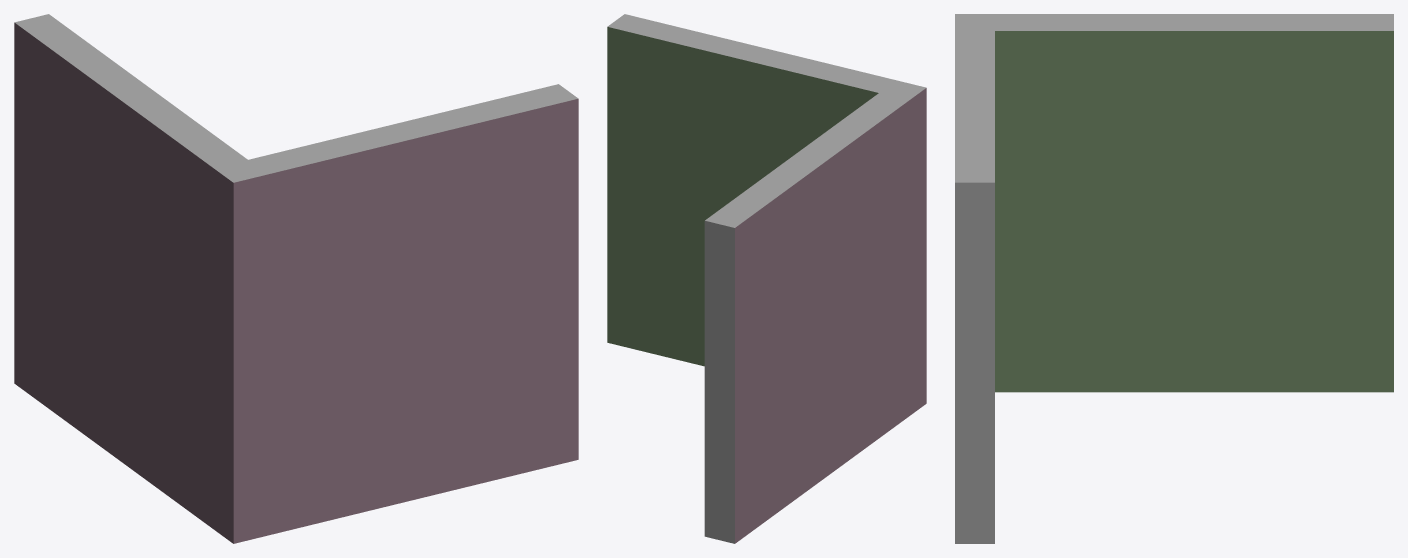
Rendered from corner100Mstd.fbx.
3 renders of one model, left to right at view 1: azimuth 30°, elevation 25°; view 2: azimuth 150°, elevation 25°; view 3: azimuth 270°, elevation 25°, orthographic. The views are drawn at different scales.
Visible parts, largest first — view 1: corner100Mstd; view 2: corner100Mstd; view 3: corner100Mstd.
Part boxes in pixels (x1,y1,x2,y2): corner100Mstd: [14, 14, 578, 543]; corner100Mstd: [607, 14, 926, 543]; corner100Mstd: [955, 14, 1393, 543].
Bounding box in the file's own units: 100 × 100 × 110.
